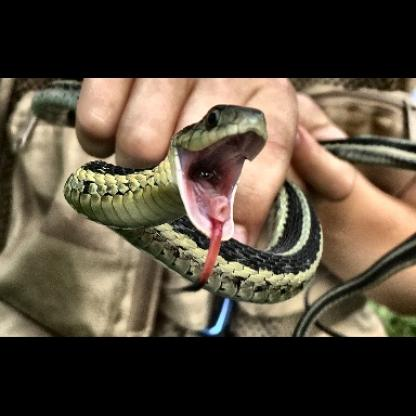Snake: (26, 81, 322, 308)
